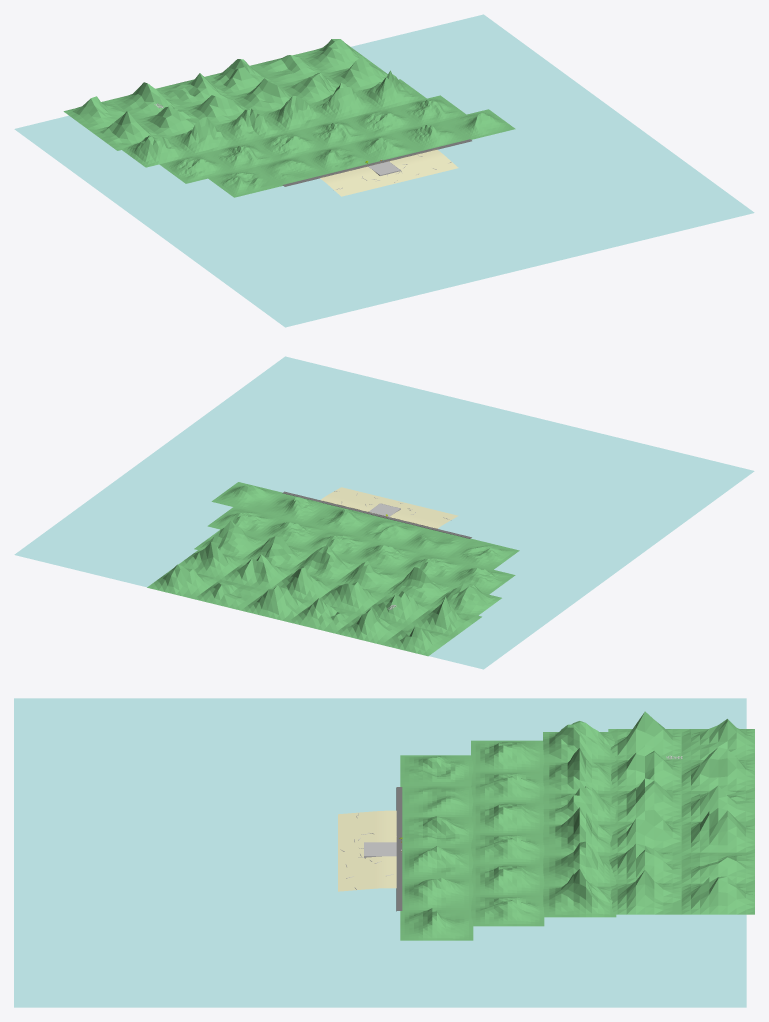
The model's file is transcendence_map_final.gltf.
3 renders of one model, top to bottom at view 1: azimuth 30°, elevation 25°; view 2: azimuth 150°, elevation 25°; view 3: azimuth 270°, elevation 25°, orthographic. The views are drawn at different scales.
Visible parts, largest first — view 1: infiniteSea, Landscape.3 (×12), Landscape.2 (×12), Landscape.1 (×3), Landscape (×3), sand, road.1; view 2: infiniteSea, Landscape.3 (×12), Landscape.2 (×12), Landscape.1 (×3), Landscape (×3), sand, road.1; view 3: infiniteSea, Landscape.3 (×12), Landscape.2 (×12), Landscape (×3), Landscape.1 (×3), sand, road.1.
Part boxes in pixels (left/top/right/bottom): infiniteSea: left=14, top=14, right=754, bottom=327; Landscape.3 (×12): left=63, top=39, right=466, bottom=171; Landscape.2 (×12): left=90, top=57, right=418, bottom=183; Landscape.1 (×3): left=255, top=109, right=515, bottom=186; Landscape (×3): left=208, top=121, right=467, bottom=197; sand: left=320, top=150, right=458, bottom=196; road.1: left=282, top=139, right=471, bottom=186; infiniteSea: left=14, top=356, right=754, bottom=669; Landscape.3 (×12): left=147, top=507, right=467, bottom=656; Landscape.2 (×12): left=179, top=518, right=515, bottom=636; Landscape.1 (×3): left=211, top=482, right=472, bottom=558; Landscape (×3): left=259, top=494, right=519, bottom=569; sand: left=321, top=487, right=458, bottom=528; road.1: left=282, top=491, right=471, bottom=538; infiniteSea: left=14, top=698, right=746, bottom=1007; Landscape.3 (×12): left=471, top=719, right=754, bottom=926; Landscape.2 (×12): left=471, top=711, right=681, bottom=914; Landscape (×3): left=400, top=755, right=473, bottom=909; Landscape.1 (×3): left=400, top=786, right=473, bottom=940; sand: left=338, top=810, right=396, bottom=891; road.1: left=396, top=787, right=402, bottom=911.
Size of what is drawn, in the model's own units: 1000 by 55.93 by 1011.
